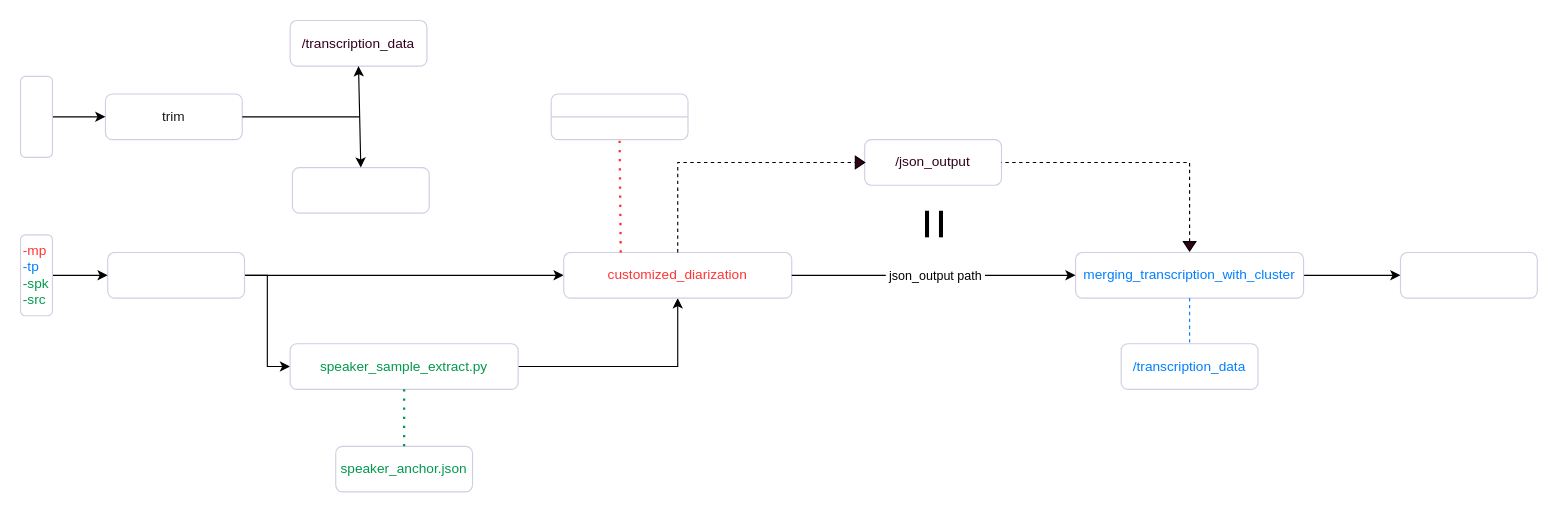
The diagram is 1557 pixels wide and 512 high, and some of its shapes have lost their labels. The shapes that lost their labels are listed below. From the top down, each one's centre as x and y in pixels, then its label:
At point (35, 116): "-mp -tp -str -stp".
At point (619, 116): "/audio_data /video_data".
At point (360, 189): "/audio_data".
At point (176, 274): "run.py".
At point (1468, 274): "/output".
